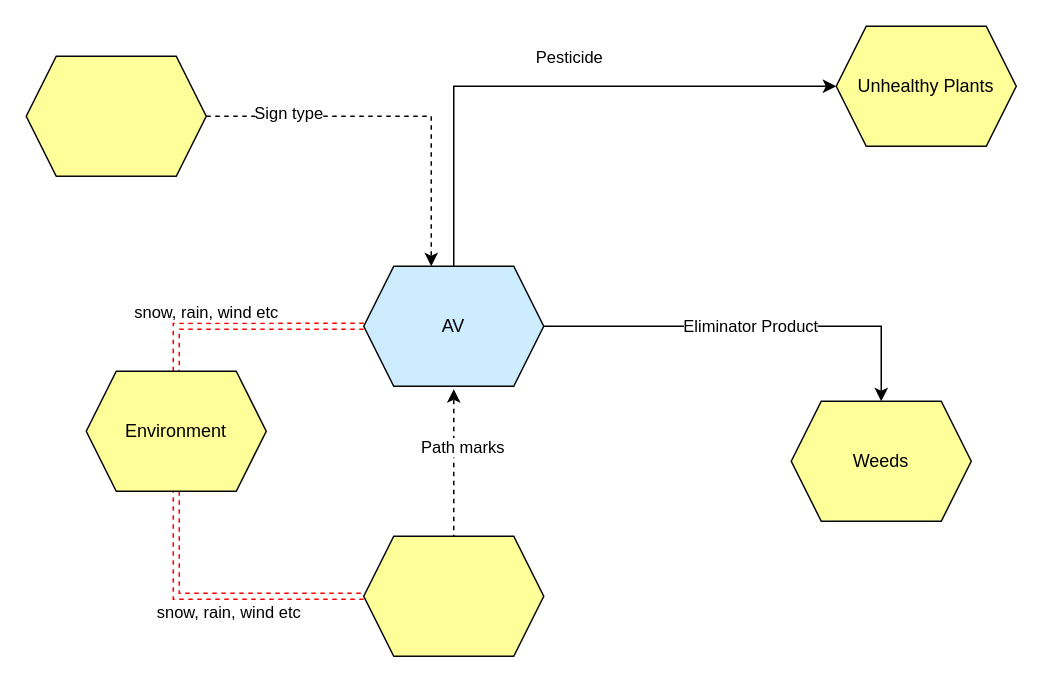
Image size: 1043x683. Some labels were removed from this diagram. The shapes that lost their labels are listed below. From the top down, each one's box as (x1, y1, x2, y2) in pixels, then its label:
(25, 55, 206, 176): Signs
(362, 535, 544, 656): Path
